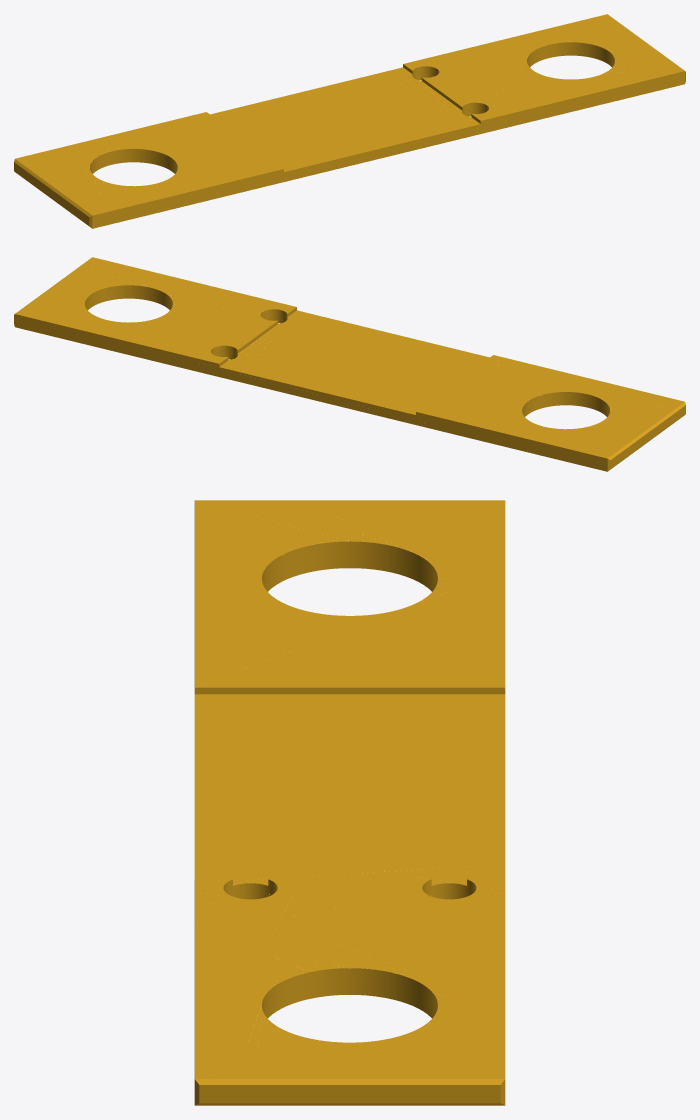
Rendered from asinma-rammer-g80-wear-plate-no2-02.glb.
3 renders of one model, top to bottom at view 1: azimuth 30°, elevation 25°; view 2: azimuth 150°, elevation 25°; view 3: azimuth 270°, elevation 25°, orthographic. The views are drawn at different scales.
Parts seen in each view (by area): view 1: body; view 2: body; view 3: body.
Boxes of the visible parts, <box> form: body: <box>14,14,685,228</box>; body: <box>14,257,685,471</box>; body: <box>194,500,505,1105</box>.
Bounding box in the file's own units: 0.61 × 0.013 × 0.1375.
